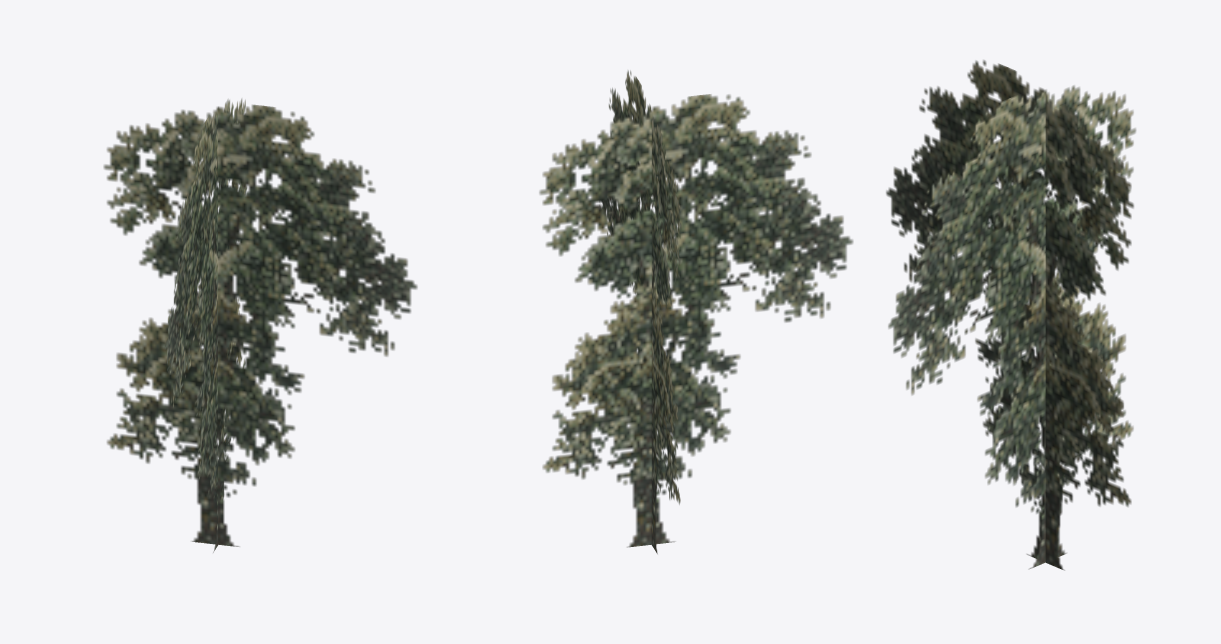
Rendered from tree090.glb.
3 views of the same model, side by side, from view 1: azimuth 30°, elevation 25°; view 2: azimuth 150°, elevation 25°; view 3: azimuth 270°, elevation 25° (orthographic). The views are drawn at different scales.
Visible parts, largest first — view 1: tree090; view 2: tree090; view 3: tree090.
Part boxes in pixels (x1,y1,x2,y2): tree090: (103, 98, 417, 552); tree090: (539, 70, 853, 553); tree090: (886, 60, 1136, 570).
Bounding box in the file's own units: 2.78 × 4.65 × 2.78.
Materials: 1 (1 with a texture image).
